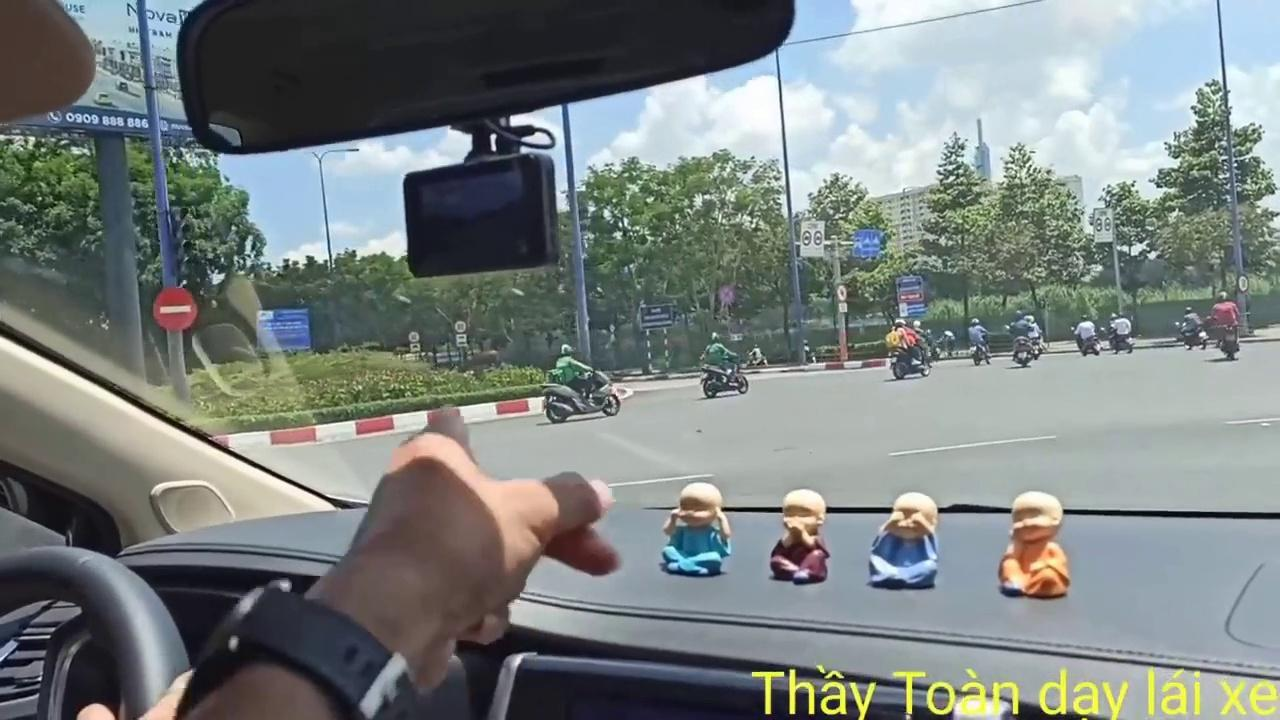Cấm cac phương tiện hoạt động trong khung giờ cố định: (800, 220, 825, 258)
Cấm dừng - Cấm đỗ: (718, 284, 736, 305)
Cấm đi ngược chiều: (151, 284, 201, 334)
Khác: (254, 307, 312, 353), (896, 274, 928, 318)
Làn đường cho từng xe: (852, 228, 881, 258)
